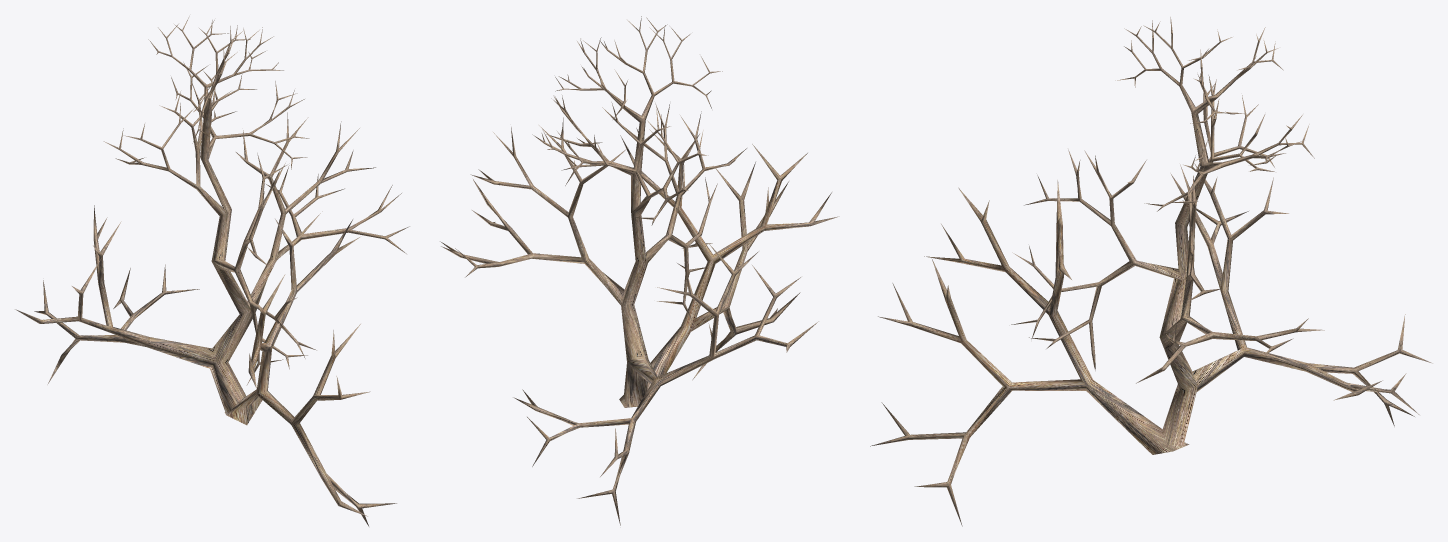
The picture shows the model from 3 angles, left to right: view 1: azimuth 30°, elevation 25°; view 2: azimuth 150°, elevation 25°; view 3: azimuth 270°, elevation 25°; orthographic projection. The views are drawn at different scales.
Parts seen in each view (by area): view 1: tree_017; view 2: tree_017; view 3: tree_017.
Boxes of the visible parts, x1=… form: tree_017: x1=15, y1=16, x2=409, y2=526; tree_017: x1=440, y1=16, x2=839, y2=525; tree_017: x1=870, y1=17, x2=1432, y2=526.
Size of the model in its own units: 7.34 by 9.14 by 8.75.
Materials: 1 (1 with a texture image).
